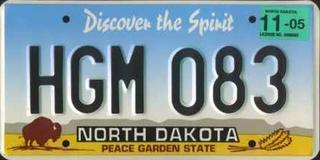placa de veiculo: (3, 3, 313, 157)
